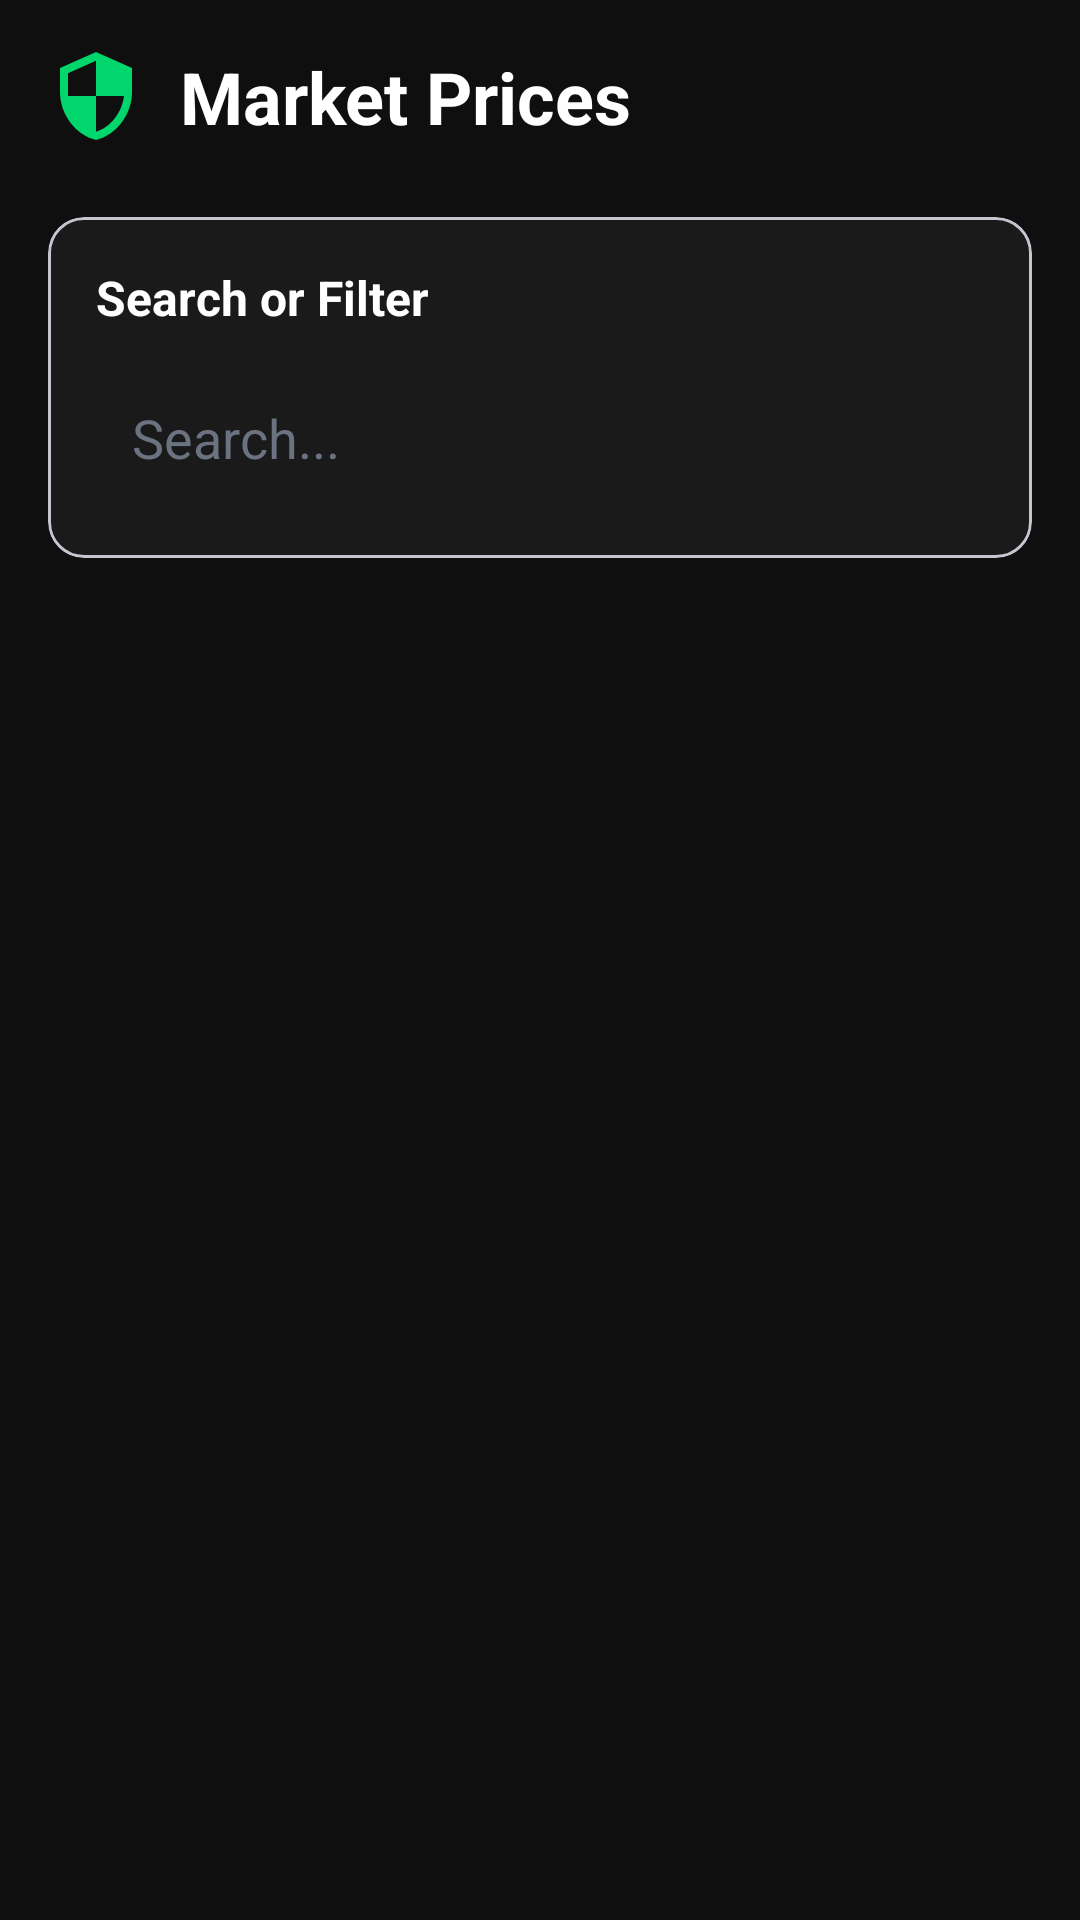

Named icons in this screenshot (1080*1920) and their centers, point (x, y):
Header Icon: point (96, 96)
